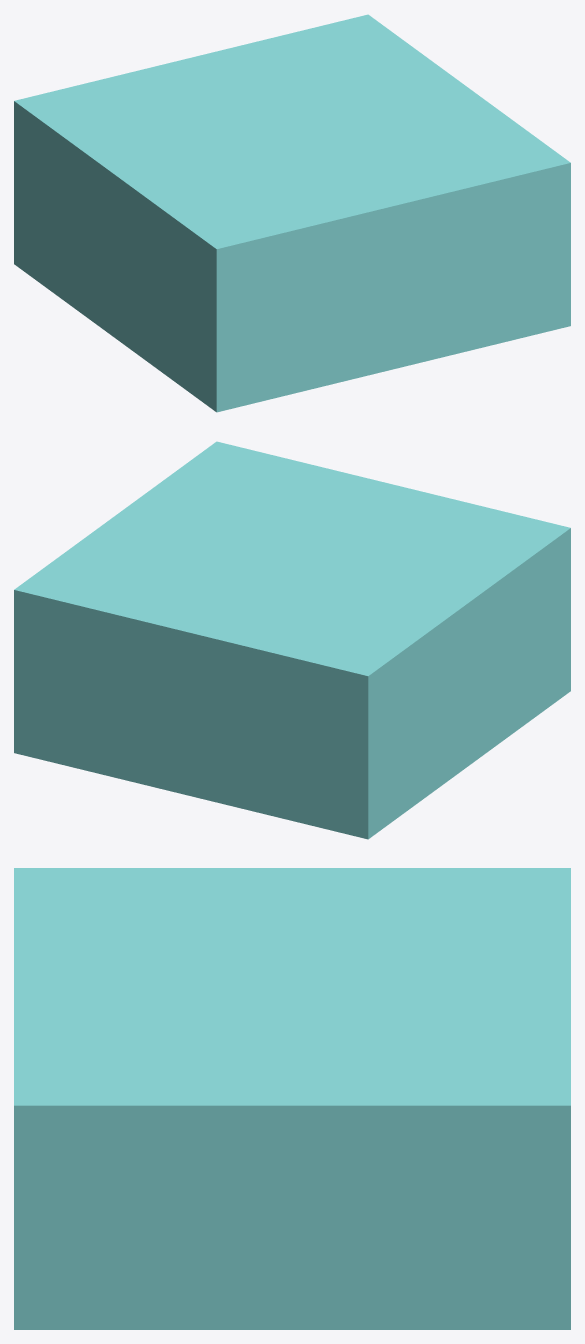
Rendered from Slime Arena Glass Section.fbx.
3 renders of one model, top to bottom at view 1: azimuth 30°, elevation 25°; view 2: azimuth 150°, elevation 25°; view 3: azimuth 270°, elevation 25°, orthographic. The views are drawn at different scales.
Visible parts, largest first — view 1: pasted__pCube8; view 2: pasted__pCube8; view 3: pasted__pCube8.
Part boxes in pixels (bbox=[...]): pasted__pCube8: bbox=[14, 14, 570, 412]; pasted__pCube8: bbox=[14, 441, 570, 839]; pasted__pCube8: bbox=[14, 868, 570, 1329].
Bounding box in the file's own units: 29.91 × 13.17 × 29.64.
